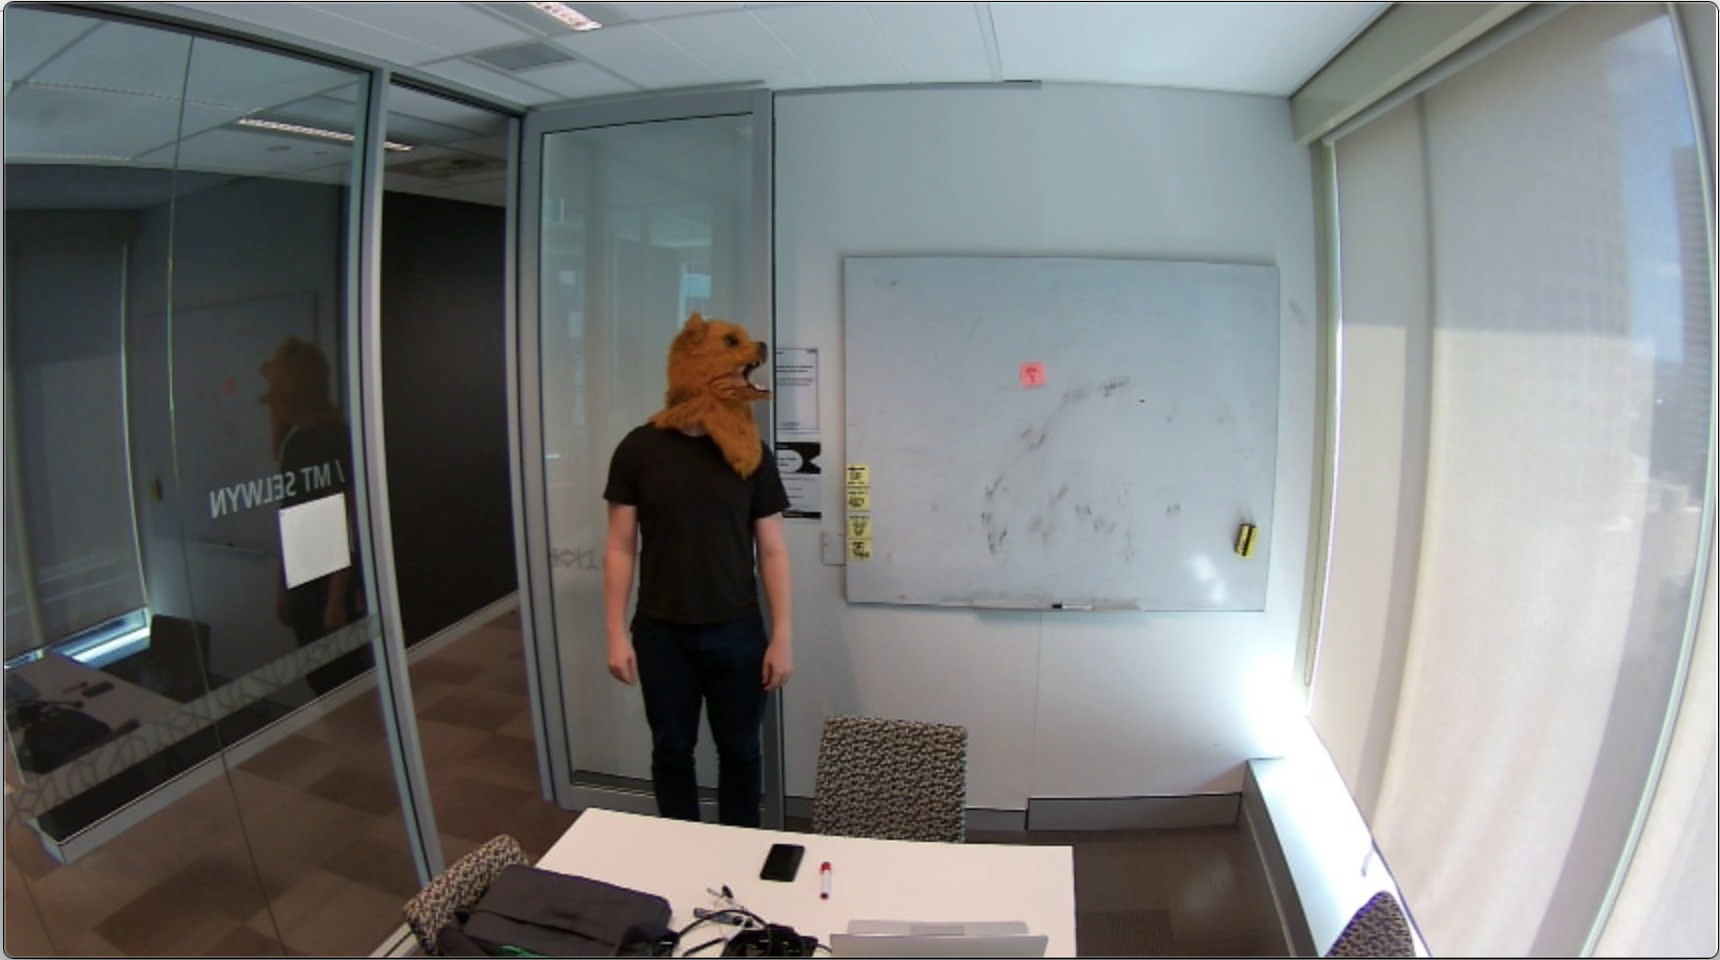Bear: (654, 305, 778, 423)
